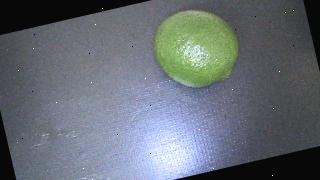EXPORTACION: (147, 0, 246, 95)
